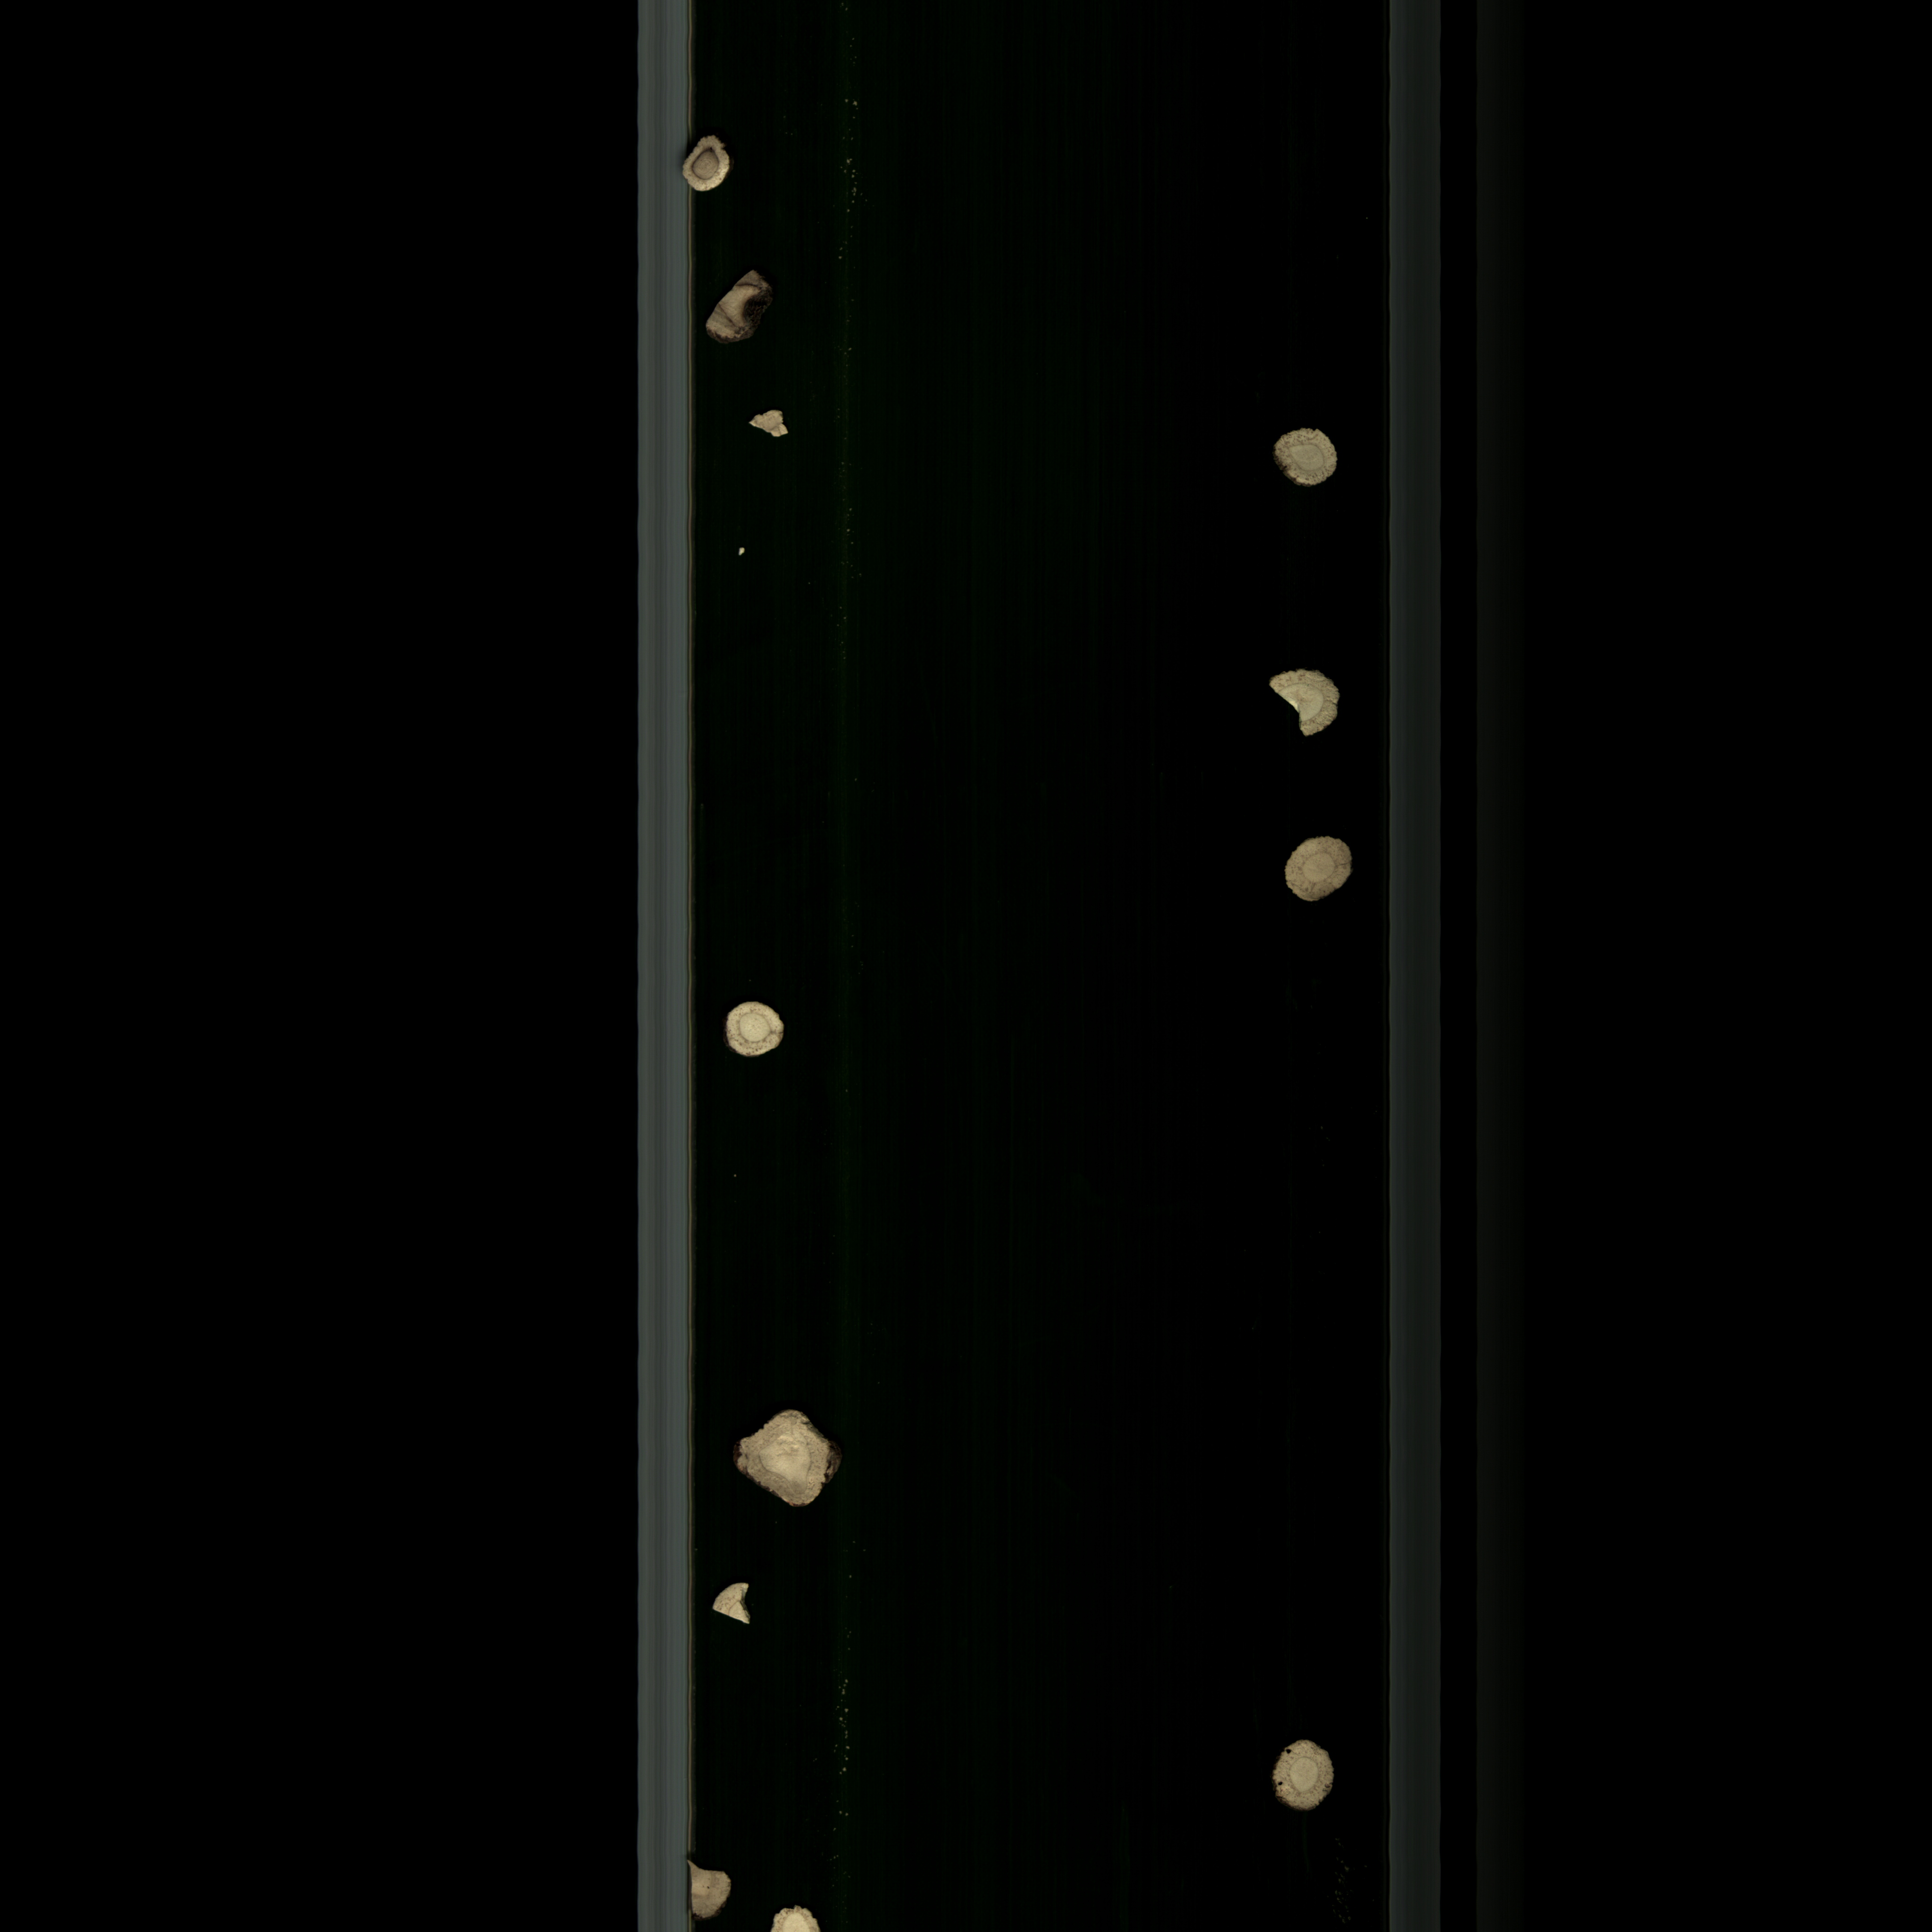debris: (1251, 658, 1346, 759)
distortion: (725, 1408, 855, 1523)
dreg: (669, 1851, 736, 1927), (702, 1575, 757, 1629), (745, 398, 800, 444)
hole: (1265, 1732, 1339, 1824)
moldy: (697, 264, 775, 352), (678, 126, 748, 196)
